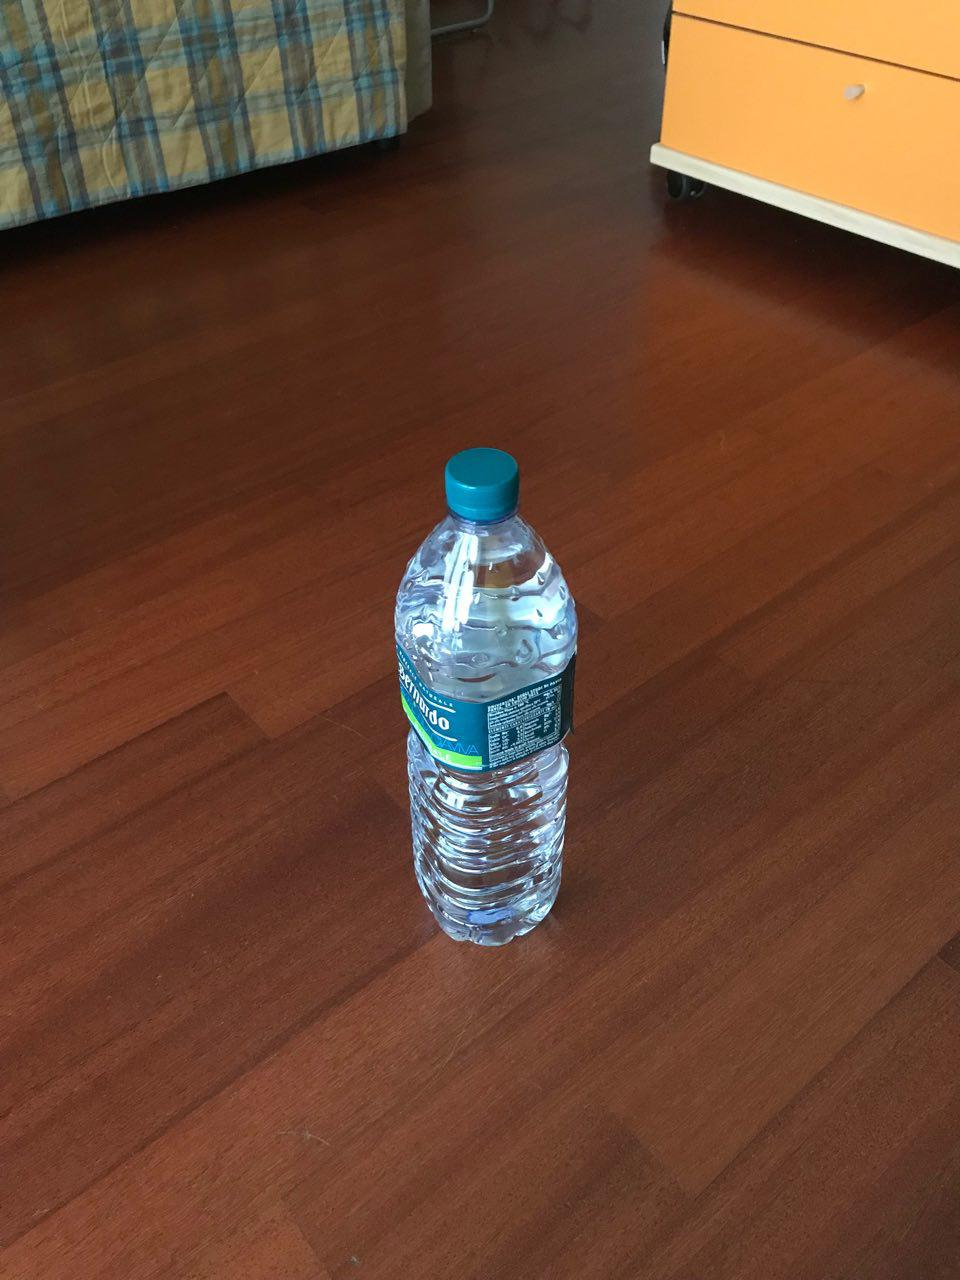san_bernardo: (391, 445, 579, 949)
